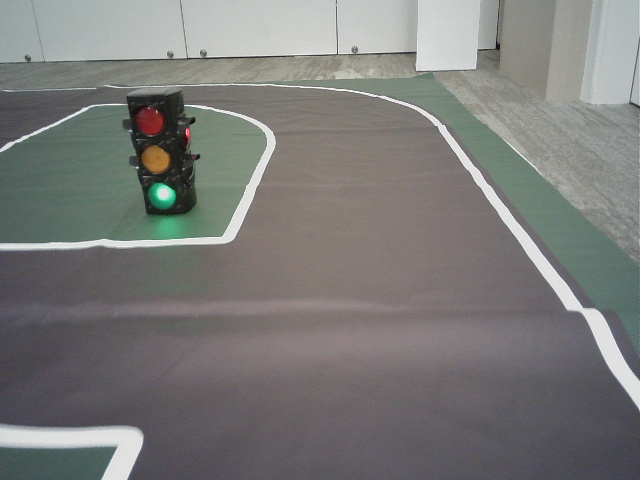green: (130, 101, 179, 213)
